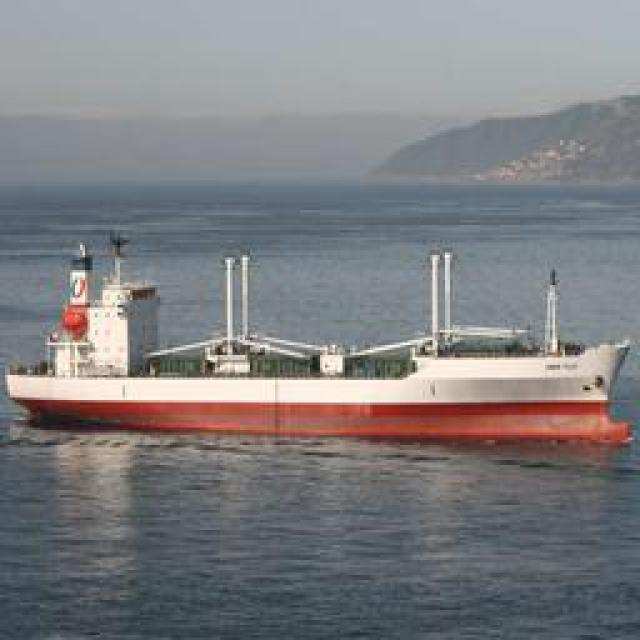Ship: (6, 247, 634, 445)
